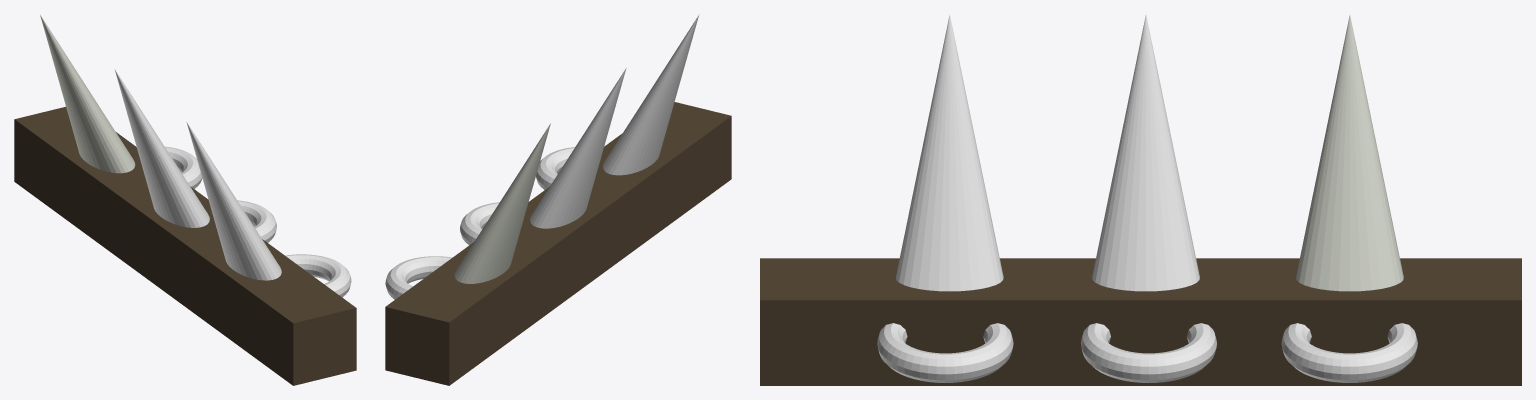
Rendered from tigerclawweapon1.fbx.
The picture shows the model from 3 angles, left to right: view 1: azimuth 30°, elevation 25°; view 2: azimuth 150°, elevation 25°; view 3: azimuth 270°, elevation 25°; orthographic projection. The views are drawn at different scales.
Visible parts, largest first — view 1: Cube, Cone.002, Cone, Cone.001, Torus, Torus.001, Torus.002; view 2: Cube, Cone, Cone.001, Cone.002, Torus.002, Torus.001, Torus; view 3: Cube, Cone, Cone.001, Cone.002, Torus.002, Torus, Torus.001.
Part boxes in pixels (left/top/right/bottom): Cube: left=14, top=106, right=356, bottom=385; Cone.002: left=40, top=15, right=135, bottom=173; Cone: left=186, top=122, right=281, bottom=280; Cone.001: left=114, top=69, right=209, bottom=227; Torus: left=285, top=254, right=351, bottom=297; Torus.001: left=237, top=200, right=276, bottom=242; Torus.002: left=165, top=146, right=202, bottom=188; Cube: left=385, top=102, right=731, bottom=385; Cone: left=603, top=14, right=699, bottom=175; Cone.001: left=530, top=68, right=626, bottom=228; Cone.002: left=454, top=123, right=550, bottom=283; Torus.002: left=385, top=256, right=452, bottom=299; Torus.001: left=460, top=202, right=499, bottom=245; Torus: left=536, top=147, right=574, bottom=189; Cube: left=760, top=258, right=1521, bottom=385; Cone: left=896, top=14, right=1003, bottom=291; Cone.001: left=1092, top=15, right=1199, bottom=291; Cone.002: left=1296, top=15, right=1403, bottom=291; Torus.002: left=1281, top=323, right=1417, bottom=382; Torus: left=877, top=323, right=1013, bottom=382; Torus.001: left=1080, top=323, right=1216, bottom=382.
Size of the model in its own units: 38.8 by 52.57 by 119.
